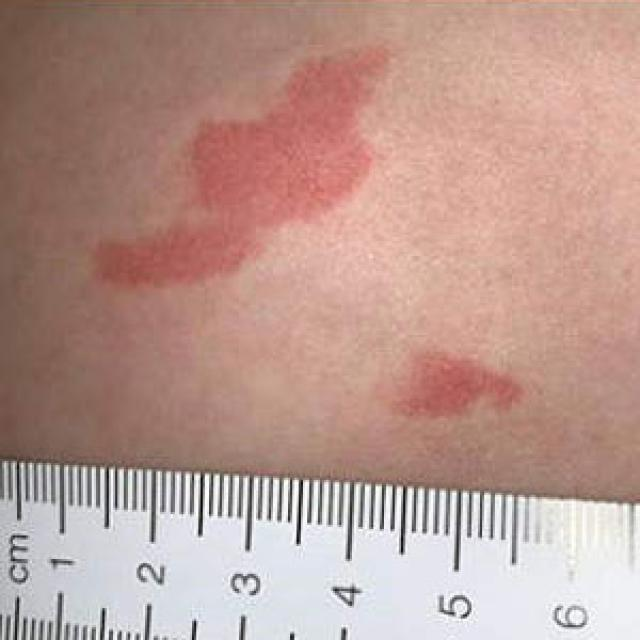stage-1: (87, 53, 386, 291), (402, 361, 527, 423)
